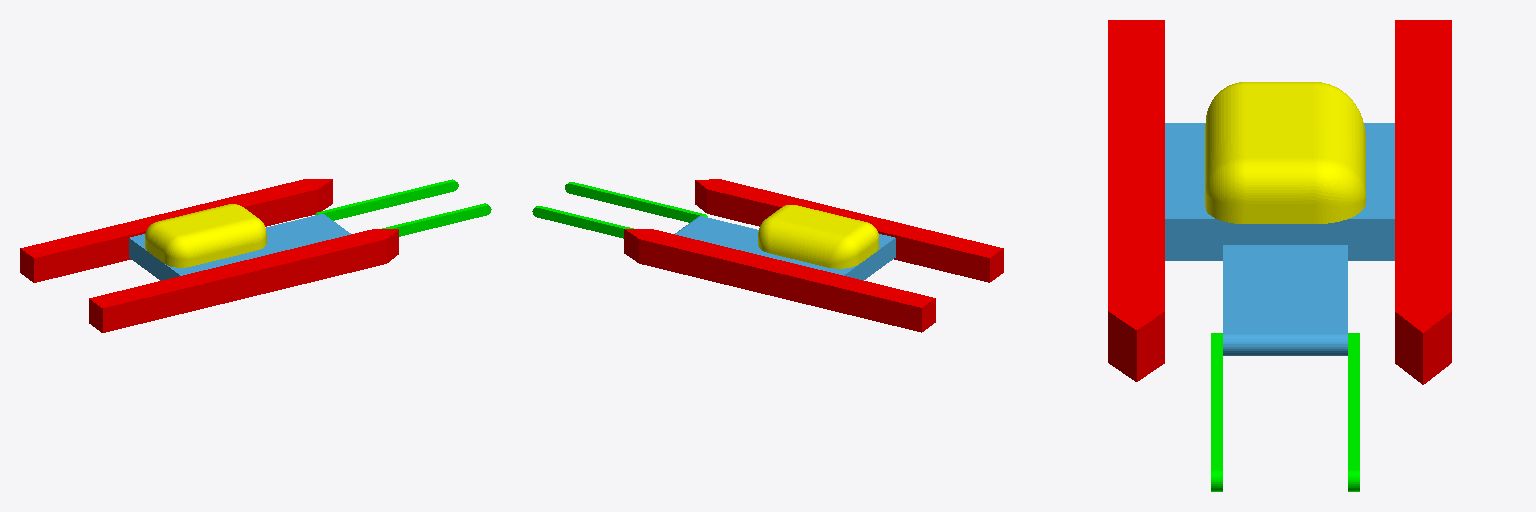
The robot description file, URDF, robot "ar_robot":
<?xml version='1.0' encoding='utf-8'?>
<robot name="ar_robot">
    <link name="hull_r">
        <inertial>
            <origin xyz="0.10107526881720418 7.105427357601002e-17 0.25" rpy="0.0 -0.0 0.0" />
            <mass value="25.0" />
            <inertia ixx="1.034" iyy="80.7" izz="80.7" ixy="-0.0" iyz="0.0" ixz="0.0" />
        </inertial>
        <visual name="hull_r_visual">
            <origin xyz="-2.3000000000000003 -0.24999999999999994 0.15" rpy="-1.5707963267948966 2.0948433581365807e-64 0.0" />
            <geometry>
                <mesh filename="meshes/hull_r.stl" scale="0.001 0.001 0.001" />
            </geometry>
            <material name="red">
                <color rgba="1.0 0.0 0.0 1.0"/>
            </material>
        </visual>
        <collision name="hull_r_collision">
            <origin xyz="-2.3000000000000003 -0.24999999999999994 0.15" rpy="-1.5707963267948966 2.0948433581365807e-64 0.0" />
            <geometry>
                <mesh filename="meshes/hull_r.stl" scale="0.001 0.001 0.001" />
            </geometry>
        </collision>
    </link>
    <link name="base_link">
        <inertial>
            <origin xyz="0.4052896217502496 -0.031105551435536363 0.9899824383932293" rpy="0.0 -0.0 0.0" />
            <mass value="120.0" />
            <inertia ixx="36.0" iyy="149.0" izz="116.5" ixy="5.8" iyz="-0.14" ixz="1.86" />
        </inertial>
        <visual name="base_link_visual">
            <origin xyz="-0.9999999999999999 -0.2 0.7000000000000001" rpy="-1.5707963267948966 -0.0 0.0" />
            <geometry>
                <mesh filename="meshes/base_link.stl" scale="0.001 0.001 0.001" />
            </geometry>
        </visual>
        <collision name="base_link_collision">
            <origin xyz="-0.9999999999999999 -0.2 0.7000000000000001" rpy="-1.5707963267948966 -0.0 0.0" />
            <geometry>
                <mesh filename="meshes/base_link.stl" scale="0.001 0.001 0.001" />
            </geometry>
        </collision>
    </link>
    
    <!-- Hydrodynamics Plugin for base_link (for underwater simulation) -->
    <!-- Provides buoyancy and drag forces -->
    <gazebo reference="base_link">
        <plugin filename="gz-sim-hydrodynamics-system" name="gz::sim::systems::Hydrodynamics">
            <link_name>base_link</link_name>
            <water_level>0.0</water_level>
            <water_density>997.0</water_density>
            <water_velocity>0 0 0</water_velocity>
            
            <!-- Buoyancy parameters -->
            <!-- Volume calculated from mass: 215 kg / 997 kg/m³ ≈ 0.216 m³ -->
            <!-- Center of volume at approximate center of mass -->
            <center_of_volume>0.4 0.0 1.0</center_of_volume>
            <volume>0.216</volume>
            
            <!-- Drag coefficients (linear damping) -->
            <!-- X-axis drag (surge) -->
            <xDotU>100.0</xDotU>
            <yDotV>100.0</yDotV>
            <zDotW>100.0</zDotW>
            
            <!-- Rotational drag (angular damping) -->
            <kDotP>50.0</kDotP>
            <mDotQ>50.0</mDotQ>
            <nDotR>50.0</nDotR>
            
            <!-- Quadratic drag coefficients (velocity squared damping) -->
            <xUabsU>200.0</xUabsU>
            <yVabsV>200.0</yVabsV>
            <zWabsW>200.0</zWabsW>
            <kPabsP>100.0</kPabsP>
            <mQabsQ>100.0</mQabsQ>
            <nRabsR>100.0</nRabsR>
            
            <!-- Additional linear drag terms -->
            <xU>50.0</xU>
            <yV>50.0</yV>
            <zW>50.0</zW>
            <kP>25.0</kP>
            <mQ>25.0</mQ>
            <nR>25.0</nR>
        </plugin>
    </gazebo>
    <link name="hull_l">
        <inertial>
            <origin xyz="1.116385880717272 0.9500000000000001 0.25" rpy="0.0 0.0 0.0" />
            <mass value="25.0" />
            <inertia ixx="1.03" iyy="81.6" izz="81.6" ixy="0.0" iyz="0.0" ixz="0.0" />
        </inertial>
        <visual name="hull_l_visual">
            <origin xyz="0.0 0.0 0.0" rpy="0.0 0.0 0.0" />
            <geometry>
                <mesh filename="meshes/hull_l.stl" scale="0.001 0.001 0.001" />
            </geometry>
            <material name="red">
                <color rgba="1.0 0.0 0.0 1.0"/>
            </material>
        </visual>
        <collision name="hull_l_collision">
            <origin xyz="0.0 0.0 0.0" rpy="0.0 0.0 0.0" />
            <geometry>
                <mesh filename="meshes/hull_l.stl" scale="0.001 0.001 0.001" />
            </geometry>
        </collision>
    </link>
    <link name="Lid">
        <inertial>
            <origin xyz="1.0517279261499726 0.22855881523943197 -0.03075096509327164" rpy="0.0 -0.0 0.0" />
            <mass value="20.0" />
            <inertia ixx="3.03" iyy="9.21" izz="6.93" ixy="-0.007" iyz="-0.029" ixz="-0.003" />
        </inertial>
        <visual name="Lid_visual">
            <origin xyz="0.10000000000000014 0.0 -0.35000000000000003" rpy="-1.5707963267948966 -0.0 0.0" />
            <geometry>
                <mesh filename="meshes/Lid.stl" scale="0.001 0.001 0.001" />
            </geometry>
            <material name="yellow">
                <color rgba="1.0 1.0 0.0 1.0"/>
            </material>
        </visual>
        <collision name="Lid_collision">
            <origin xyz="0.10000000000000014 0.0 -0.35000000000000003" rpy="-1.5707963267948966 -0.0 0.0" />
            <geometry>
                <mesh filename="meshes/Lid.stl" scale="0.001 0.001 0.001" />
            </geometry>
        </collision>
    </link>
    <link name="poll_l">
        <inertial>
            <origin xyz="1.4000000021396273 0.0 0.05000000099942362" rpy="0.0 -0.0 0.0" />
            <mass value="12.5" />
            <inertia ixx="0.052" iyy="9.14" izz="9.17" ixy="0.0" iyz="0.0" ixz="0.0" />
        </inertial>
        <visual name="poll_l_visual">
            <origin xyz="-2.9300367597639663 0.1 -0.2989713470133005" rpy="1.5707963267948966 -0.0 0.0" />
            <geometry>
                <mesh filename="meshes/poll_l.stl" scale="0.001 0.001 0.001" />
            </geometry>
            <material name="green">
                <color rgba="0.0 1.0 0.0 1.0"/>
            </material>
        </visual>
        <collision name="poll_l_collision">
            <origin xyz="-2.9300367597639663 0.1 -0.2989713470133005" rpy="1.5707963267948966 -0.0 0.0" />
            <geometry>
                <mesh filename="meshes/poll_l.stl" scale="0.001 0.001 0.001" />
            </geometry>
        </collision>
    </link>
    <link name="poll_r">
        <inertial>
            <origin xyz="1.4000000021396273 0.0 0.05" rpy="0.0 -0.0 0.0" />
            <mass value="12.5" />
            <inertia ixx="0.052" iyy="9.14" izz="9.17" ixy="0.0" iyz="0.0" ixz="0.0" />
        </inertial>
        <visual name="poll_r_visual">
            <origin xyz="-3.7999999978603727 -0.1 -0.8" rpy="-1.5707963267948966 -0.0 0.0" />
            <geometry>
                <mesh filename="meshes/poll_r.stl" scale="0.001 0.001 0.001" />
            </geometry>
            <material name="green">
                <color rgba="0.0 1.0 0.0 1.0"/>
            </material>
        </visual>
        <collision name="poll_r_collision">
            <origin xyz="-3.7999999978603727 -0.1 -0.8" rpy="-1.5707963267948966 -0.0 0.0" />
            <geometry>
                <mesh filename="meshes/poll_r.stl" scale="0.001 0.001 0.001" />
            </geometry>
        </collision>
    </link>
    <joint name="base_link_Rigid-2" type="fixed">
        <origin xyz="0.0 0.0 2.0" rpy="0.0 -0.0 0.0" />
        <parent link="base_link" />
        <child link="hull_r" />
    </joint>
    <joint name="hull_l_Rigid-4" type="fixed">
        <origin xyz="1.0 0.7000000000000001 0.25" rpy="1.5707963267948966 -0.0 0.0" />
        <parent link="hull_l" />
        <child link="base_link" />
    </joint>
    <joint name="base_link_Revolute-5" type="continuous">
        <origin xyz="-1.0 0.2 1.0" rpy="0.0 -0.0 0.0" />
        <parent link="base_link" />
        <child link="Lid" />
        <axis xyz="0.0 0.0 1.0" />
    </joint>
    <joint name="base_link_Revolute-6" type="continuous">
        <origin xyz="2.83004762 -0.15 0.40338482" rpy="3.141592653589793 -0.0 0.0" />
        <parent link="base_link" />
        <child link="poll_l" />
        <axis xyz="0.0 0.0 1.0" />
        <dynamics damping="0.1" friction="0.1"/>
    </joint>
    <joint name="base_link_Revolute-7" type="continuous">
        <origin xyz="2.83004762 -0.15 1.5" rpy="0.0 -0.0 0.0" />
        <parent link="base_link" />
        <child link="poll_r" />
        <axis xyz="0.0 0.0 1.0" />
        <dynamics damping="0.1" friction="0.1"/>
    </joint>

    <!-- Left Motor (Stern, Port Side) -->
    <link name="motor_left">
        <inertial>
            <origin xyz="0 0 0" rpy="0 0 0" />
            <mass value="5.0" />
            <inertia ixx="0.015" iyy="0.015" izz="0.015" ixy="0.0" iyz="0.0" ixz="0.0" />
        </inertial>
        <visual name="motor_left_visual">
            <origin xyz="0 0 0" rpy="0 0 0" />
            <geometry>
                <cylinder radius="0.1" length="0.2" />
            </geometry>
            <material name="motor_grey">
                <color rgba="0.5 0.5 0.5 1.0"/>
            </material>
        </visual>
        <collision name="motor_left_collision">
            <origin xyz="0 0 0" rpy="0 0 0" />
            <geometry>
                <cylinder radius="0.1" length="0.2" />
            </geometry>
        </collision>
    </link>

    <!-- Right Motor (Stern, Starboard Side) -->
    <link name="motor_right">
        <inertial>
            <origin xyz="0 0 0" rpy="0 0 0" />
            <mass value="5.0" />
            <inertia ixx="0.015" iyy="0.015" izz="0.015" ixy="0.0" iyz="0.0" ixz="0.0" />
        </inertial>
        <visual name="motor_right_visual">
            <origin xyz="0 0 0" rpy="0 0 0" />
            <geometry>
                <cylinder radius="0.1" length="0.2" />
            </geometry>
            <material name="motor_grey">
                <color rgba="0.5 0.5 0.5 1.0"/>
            </material>
        </visual>
        <collision name="motor_right_collision">
            <origin xyz="0 0 0" rpy="0 0 0" />
            <geometry>
                <cylinder radius="0.1" length="0.2" />
            </geometry>
        </collision>
    </link>

    <!-- Left Motor Joint (Fixed to hull_l stern) -->
    <joint name="motor_left_joint" type="fixed">
        <origin xyz="-1.5 0.95 0.25" rpy="0 0 0" />
        <parent link="hull_l" />
        <child link="motor_left" />
    </joint>

    <!-- Right Motor Joint (Fixed to hull_r stern) -->
    <joint name="motor_right_joint" type="fixed">
        <origin xyz="-2.3 0.0 0.25" rpy="0 0 0" />
        <parent link="hull_r" />
        <child link="motor_right" />
    </joint>

    <!-- Gazebo-specific configuration for joint control -->
    <gazebo reference="base_link_Revolute-5">
        <implicitSpringDamper>true</implicitSpringDamper>
        <provideFeedback>true</provideFeedback>
    </gazebo>
    <gazebo reference="base_link_Revolute-6">
        <implicitSpringDamper>true</implicitSpringDamper>
        <provideFeedback>true</provideFeedback>
    </gazebo>
    <gazebo reference="base_link_Revolute-7">
        <implicitSpringDamper>true</implicitSpringDamper>
        <provideFeedback>true</provideFeedback>
    </gazebo>

    <!-- Joint Position Controller Plugin (for gz-sim) -->
    <!-- Note: This plugin may need to be added to the world file instead -->
    <gazebo>
        <plugin filename="gz-sim-joint-position-controller-system" name="gz::sim::systems::JointPositionController">
            <joint_name>base_link_Revolute-5</joint_name>
            <joint_name>base_link_Revolute-6</joint_name>
            <joint_name>base_link_Revolute-7</joint_name>
            <p_gain>10.0</p_gain>
            <i_gain>0.0</i_gain>
            <d_gain>1.0</d_gain>
            <initial_position>0.0</initial_position>
        </plugin>
    </gazebo>

    <!-- Left Motor Plugin - Applies force based on thrust command -->
    <gazebo reference="motor_left">
        <plugin filename="gz-sim-user-commands-system" name="gz::sim::systems::UserCommands">
            <!-- Motor will be controlled via ROS2 topics -->
        </plugin>
    </gazebo>

    <!-- Right Motor Plugin - Applies force based on thrust command -->
    <gazebo reference="motor_right">
        <plugin filename="gz-sim-user-commands-system" name="gz::sim::systems::UserCommands">
            <!-- Motor will be controlled via ROS2 topics -->
        </plugin>
    </gazebo>
</robot>

--- Facts derived from the render (not from the file) ---
3 views of the same robot in one strip: view 1: azimuth 30°, elevation 25°; view 2: azimuth 150°, elevation 25°; view 3: azimuth 270°, elevation 25° (orthographic).
Robot: ar_robot — 8 links, 7 joints (3 continuous, 4 fixed); root link hull_l; default pose: all joints at 0.
Links seen in each view (by area): view 1: hull_r, hull_l, Lid, base_link, poll_l, poll_r; view 2: hull_l, hull_r, Lid, base_link, poll_r, poll_l; view 3: base_link, Lid, hull_l, hull_r, poll_l, poll_r.
Boxes of the visible links, bbox=[...] form: hull_r: bbox=[89, 229, 398, 332]; hull_l: bbox=[20, 179, 332, 282]; Lid: bbox=[145, 204, 266, 267]; base_link: bbox=[129, 214, 350, 280]; poll_l: bbox=[315, 179, 458, 220]; poll_r: bbox=[382, 203, 491, 236]; hull_l: bbox=[624, 229, 935, 332]; hull_r: bbox=[695, 179, 1003, 282]; Lid: bbox=[758, 205, 878, 268]; base_link: bbox=[675, 216, 895, 280]; poll_r: bbox=[565, 182, 707, 222]; poll_l: bbox=[532, 206, 633, 238]; base_link: bbox=[1165, 123, 1394, 355]; Lid: bbox=[1205, 82, 1365, 223]; hull_l: bbox=[1395, 20, 1451, 384]; hull_r: bbox=[1108, 20, 1164, 381]; poll_l: bbox=[1348, 333, 1359, 491]; poll_r: bbox=[1211, 333, 1222, 491].
Size in the robot's own frame: 8.73 by 3 by 0.95 metres.
Meshes: 6 distinct files referenced, 6 mesh visuals loaded (6 binary STL).